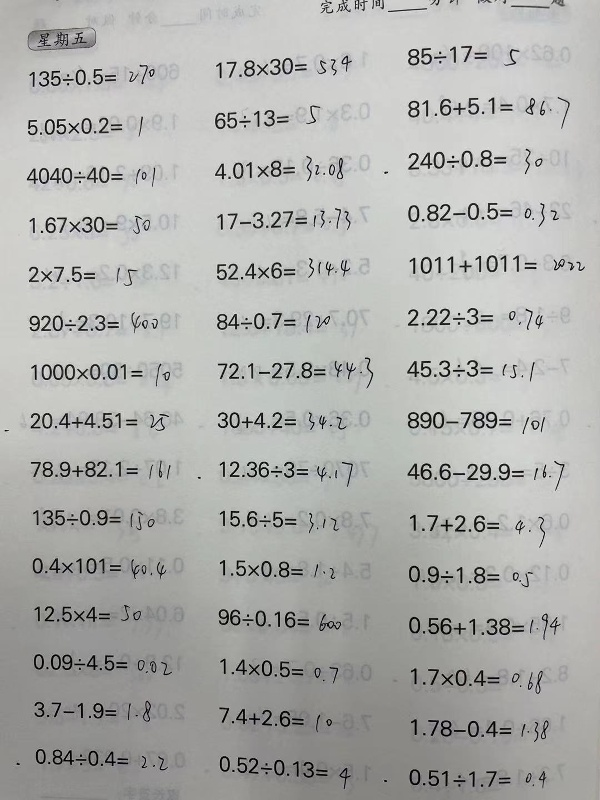equation: (404, 93, 573, 133), (403, 456, 568, 494), (213, 353, 377, 391), (404, 609, 564, 643), (214, 755, 356, 792), (405, 510, 547, 547), (404, 251, 587, 279), (403, 198, 562, 230), (215, 457, 356, 490), (211, 151, 347, 184), (402, 303, 546, 334), (403, 146, 546, 177), (405, 664, 546, 695), (406, 714, 551, 744), (25, 358, 173, 387), (402, 405, 547, 434), (213, 204, 354, 233), (25, 307, 162, 336), (22, 112, 149, 142), (211, 254, 352, 281), (28, 649, 174, 675), (25, 407, 171, 433), (210, 100, 325, 133), (210, 53, 354, 79), (27, 553, 169, 579), (27, 457, 174, 482), (22, 161, 158, 188), (402, 354, 537, 381), (402, 41, 523, 71), (403, 765, 548, 790), (30, 696, 155, 725), (24, 262, 144, 292), (24, 61, 157, 88), (214, 506, 342, 534), (28, 504, 157, 531), (403, 561, 535, 587), (213, 605, 344, 631), (212, 406, 348, 431), (30, 746, 171, 770), (25, 212, 154, 238), (214, 655, 341, 681), (211, 307, 333, 334), (214, 704, 335, 730), (215, 555, 337, 580), (30, 599, 144, 624)
